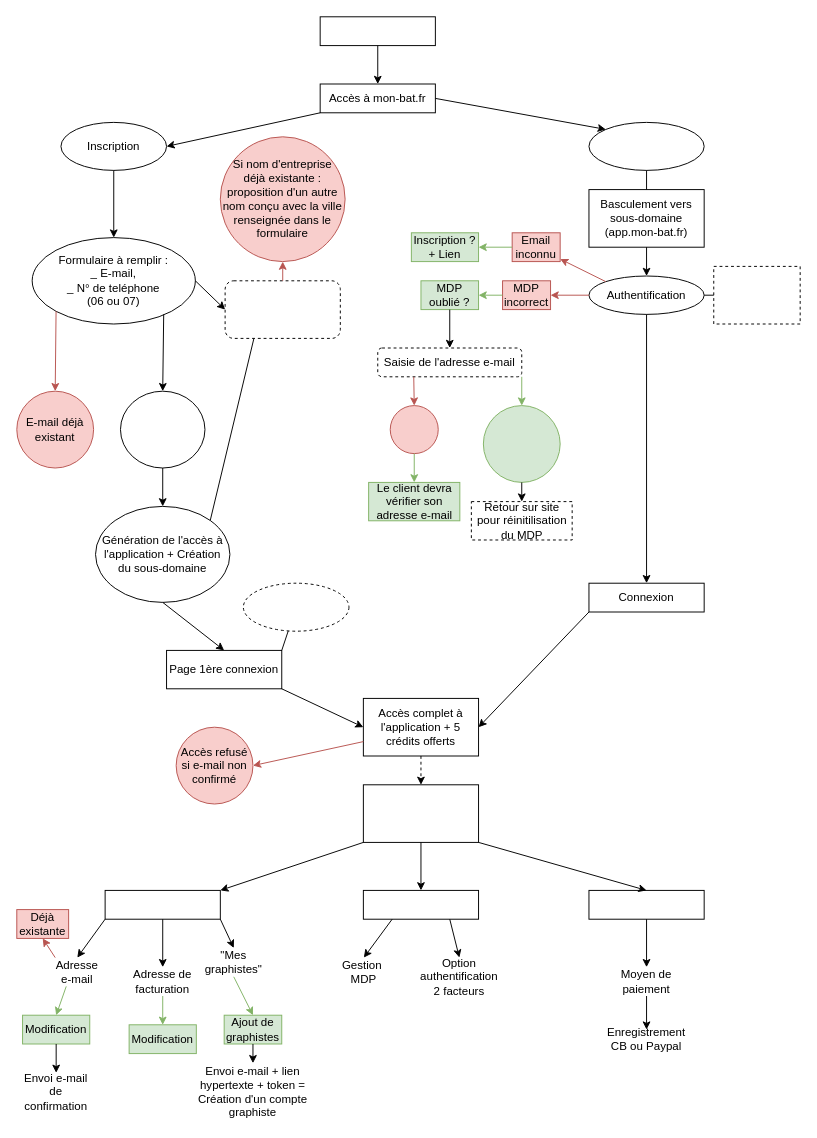
Image size: 817x1138. Some labels were removed from this diagram. Each missing label, with the centre of its shape:
"Crédit": the point at 646,904
"Mon entreprise": the point at 162,904
"Sécurité": the point at 420,904
Accès à "Mon compte": the point at 420,813
Agence cliente: the point at 377,31
Bouton connexion: the point at 646,145
E-mail de confirmation: the point at 162,429
Envoi d'un e-mail avec lien hypertexte: the point at 521,443
Inconnu: the point at 413,429
Reconnaissance des graphistes associés: the point at 756,294
Récupération du nom de l'entreprise: the point at 282,309
Upload du logo de l'entreprise: the point at 295,606
